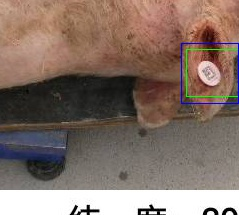text: (186, 49, 238, 96)
